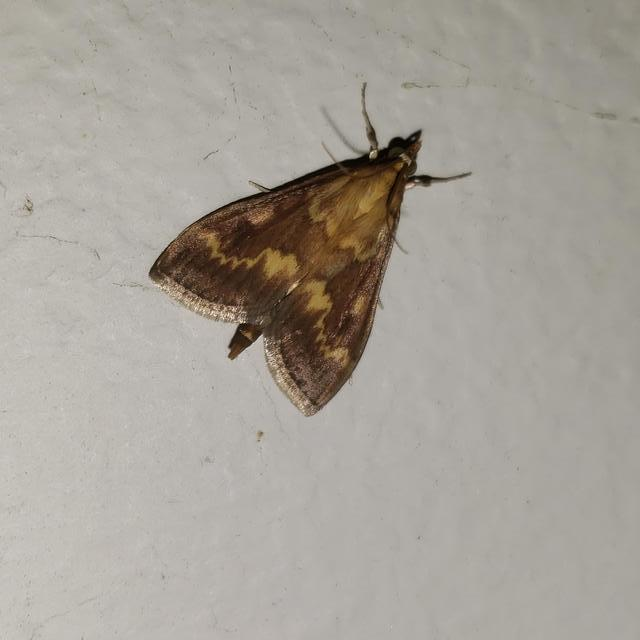cornborer-Adult-: (139, 54, 483, 440)
